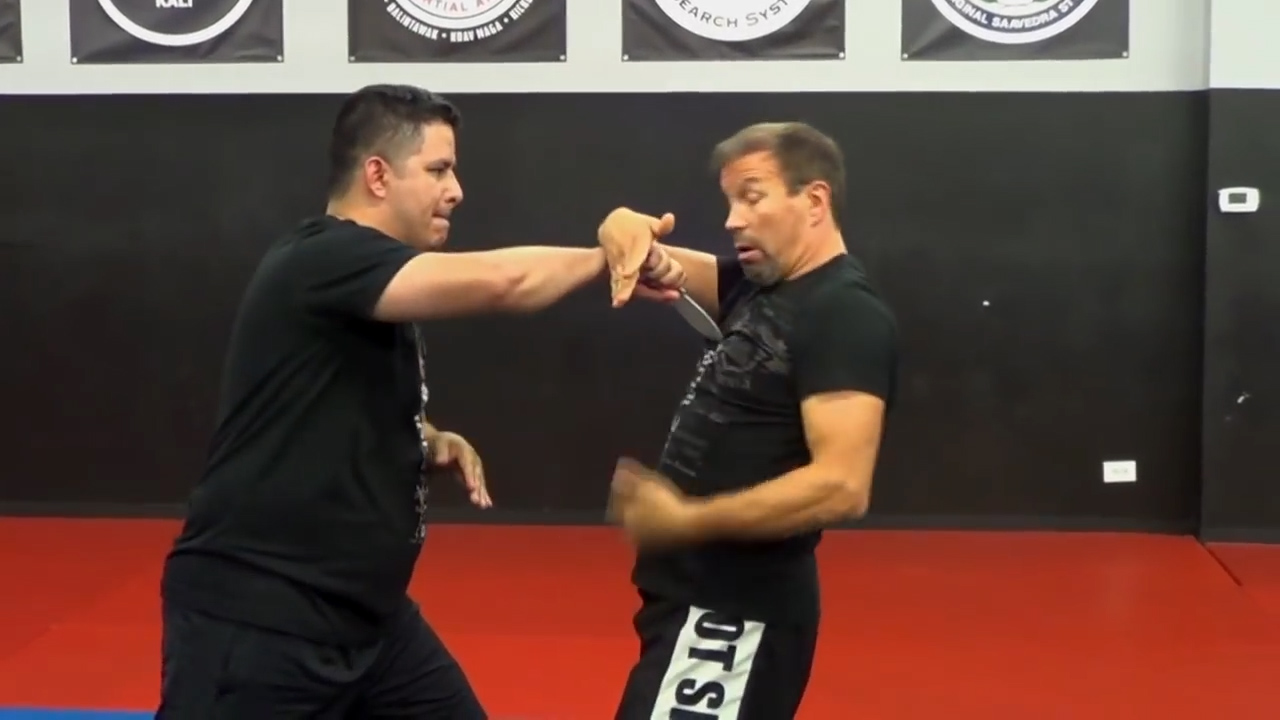knife: (628, 246, 725, 348)
